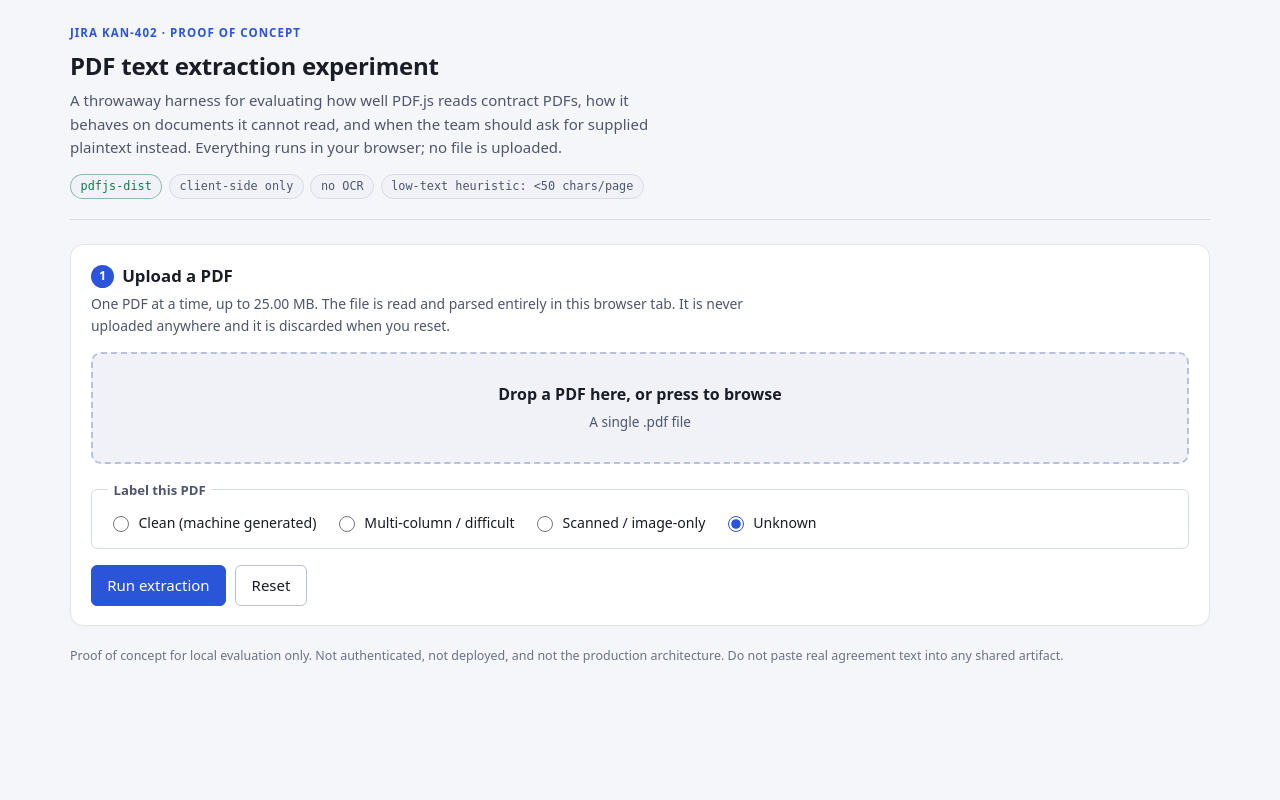
Test: invalid input › explains that nothing can run without a file
Step 1. Click the button with test id "run-extraction" → (158, 586), box [91,565,226,606]
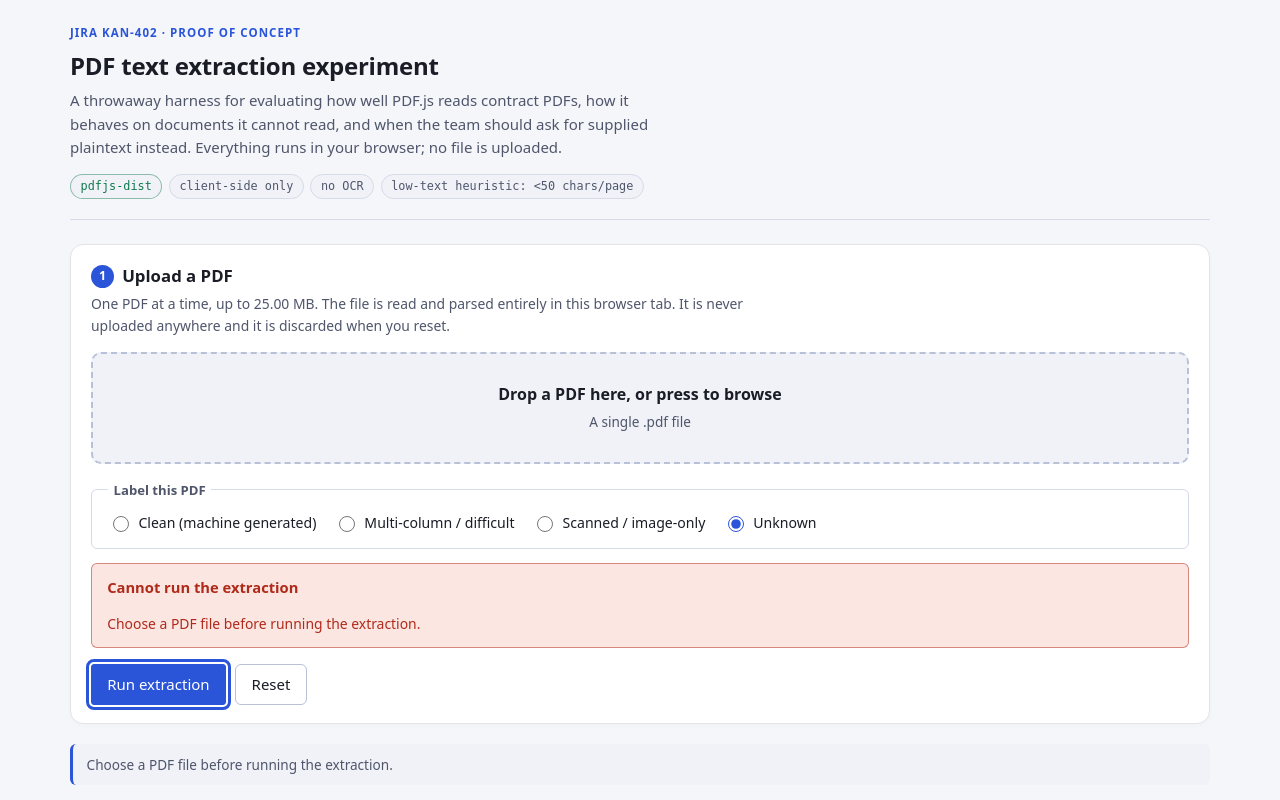
Result: the message with test id "upload-error" shows "Choose a PDF" at [107,614,420,633]
